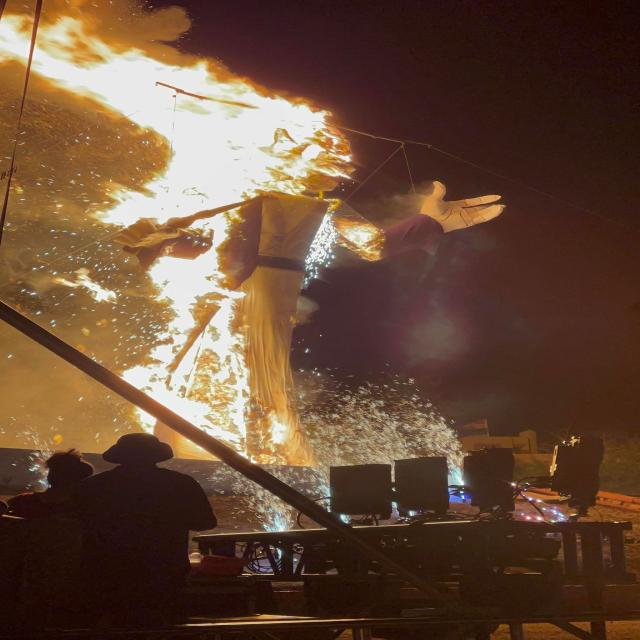fire: (0, 16, 348, 220), (123, 213, 253, 439), (339, 224, 386, 262)
